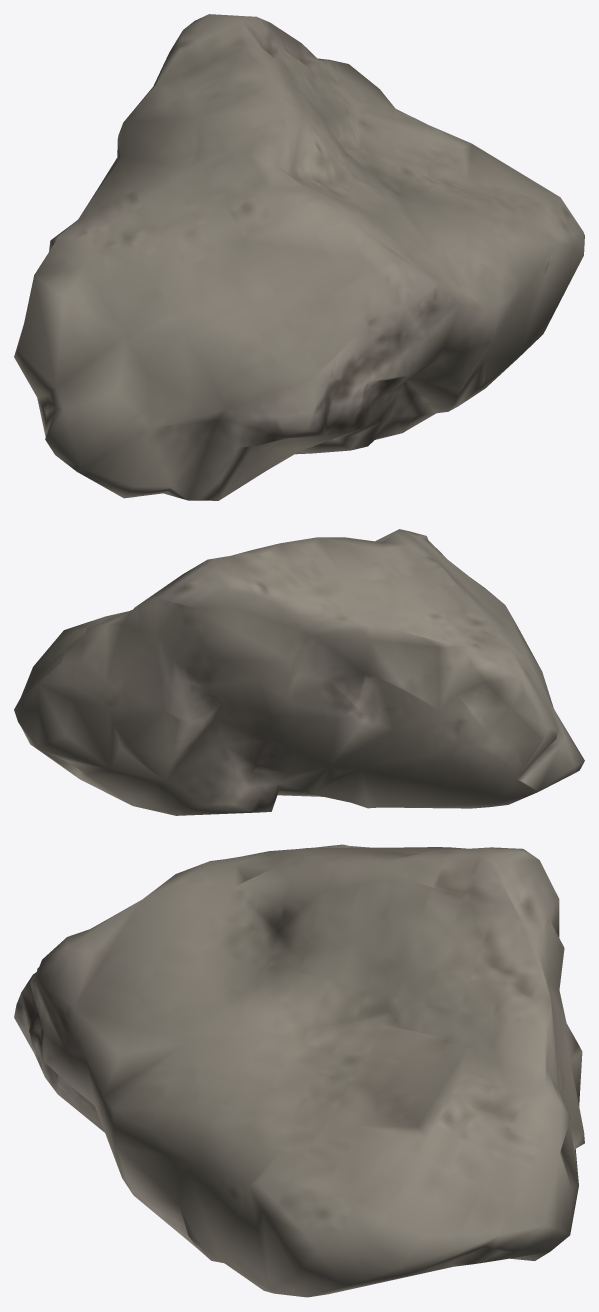
Rendered from rock-moon-03.lite.22e95ae8.glb.
3 views of the same model, one above another, from view 1: azimuth 30°, elevation 25°; view 2: azimuth 150°, elevation 25°; view 3: azimuth 270°, elevation 25° (orthographic). The views are drawn at different scales.
Visible parts, largest first — view 1: model; view 2: model; view 3: model.
Part boxes in pixels (x1,y1,x2,y2): model: (14, 14, 584, 500); model: (14, 529, 584, 815); model: (14, 844, 584, 1297).
Size of the model in its own units: 0.112 by 0.0582 by 0.0861.
Materials: 1 (1 with a texture image).
